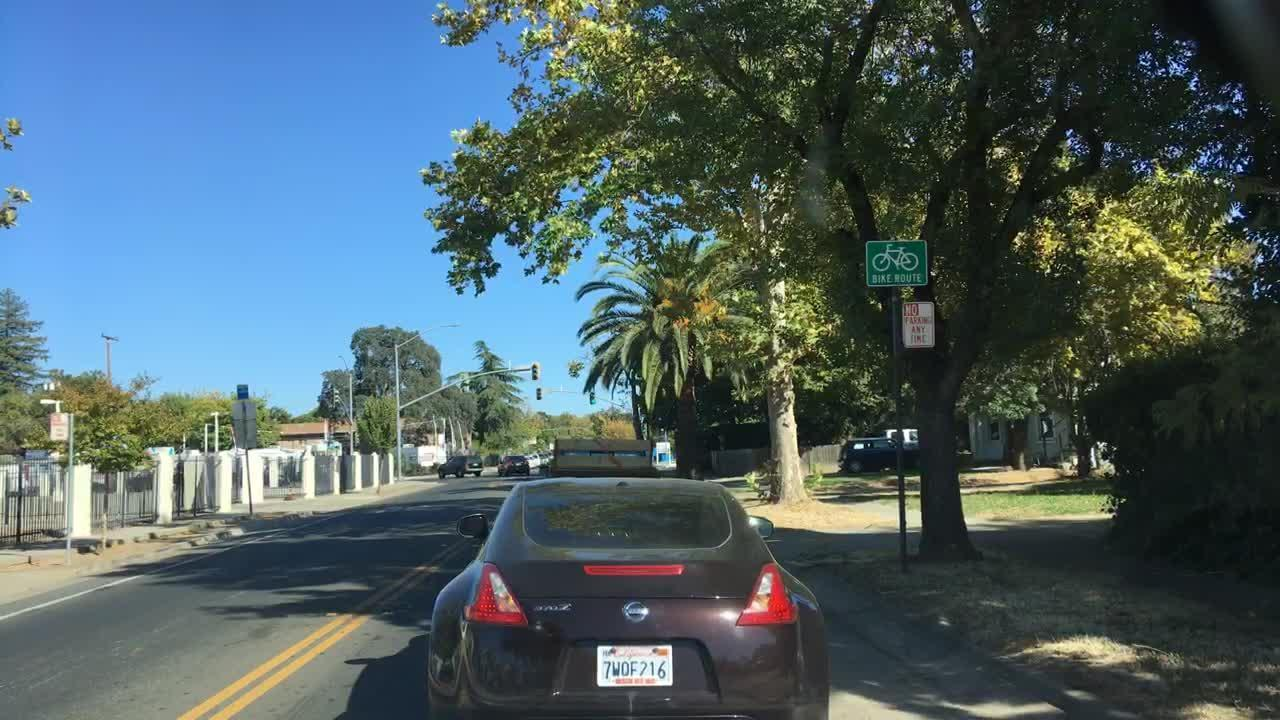Nissan: (620, 601, 650, 624)
